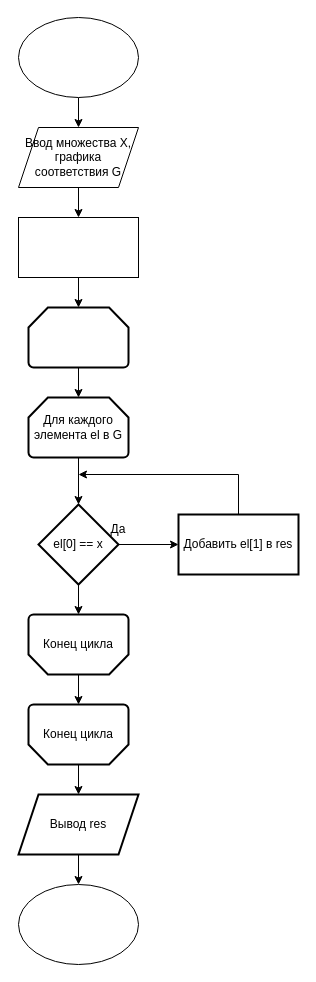
This 316x982 diagram has some shape labels left out. The centre of each missing label's shape, as x and y in pixels:
"Для каждого элемента x в X" belongs at point (78, 337).
"Конец" belongs at point (78, 924).
"Начало" belongs at point (78, 57).
"Новое пустое множество res" belongs at point (78, 247).
